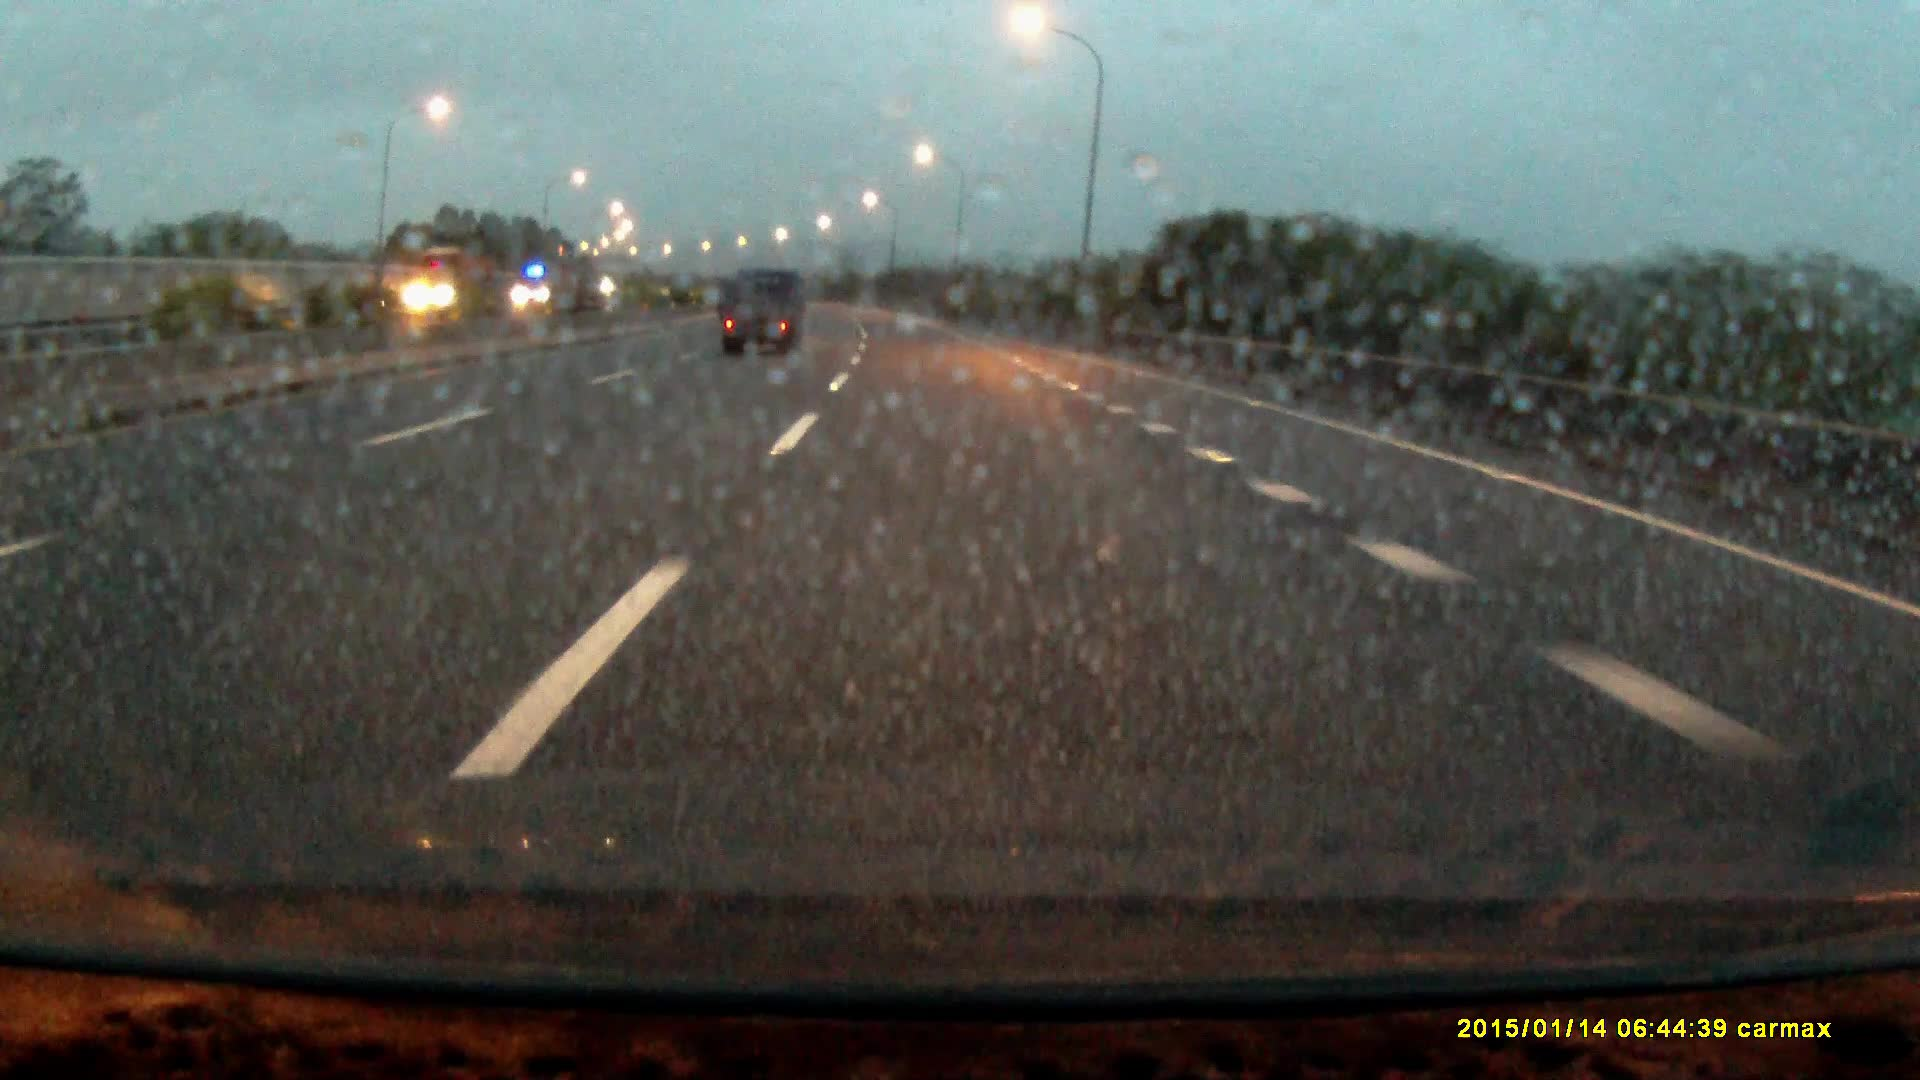vehicle: (723, 266, 803, 360), (411, 251, 504, 316), (513, 262, 579, 313)
